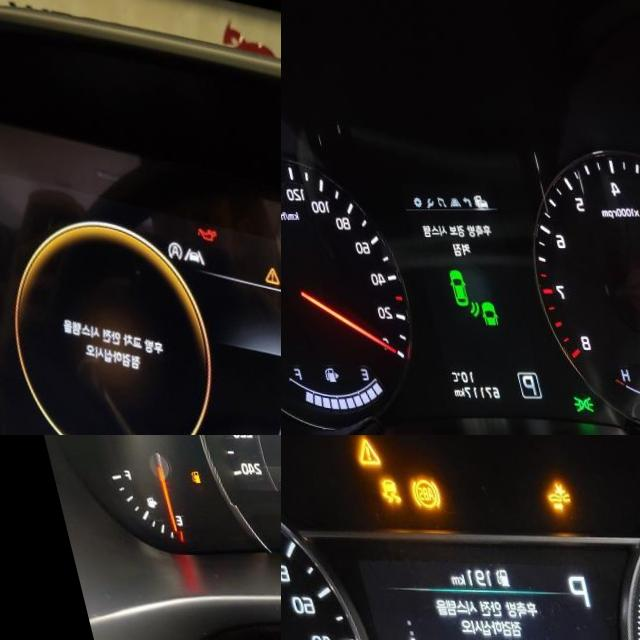Central Warning lamp: (351, 436, 379, 466), (248, 264, 271, 284)
LaneCenteringOff: (169, 245, 196, 263)
Low fuel level: (174, 469, 185, 483)
SideLamp: (551, 393, 574, 413)
